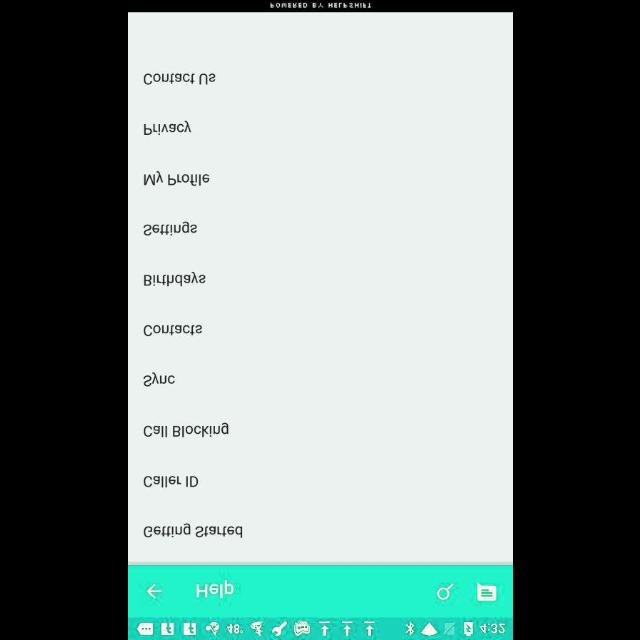icon: (476, 580, 496, 600), (436, 582, 454, 600), (146, 582, 162, 598)
text: (144, 522, 242, 538), (144, 422, 228, 438), (144, 170, 210, 186), (143, 272, 205, 286), (143, 73, 215, 85), (142, 222, 196, 236), (144, 120, 190, 136), (144, 324, 202, 336), (195, 580, 232, 598), (144, 475, 198, 487), (270, 2, 370, 8), (142, 372, 174, 386)
toolbar: (128, 565, 512, 617)
uppertaskbar: (128, 617, 512, 639)
